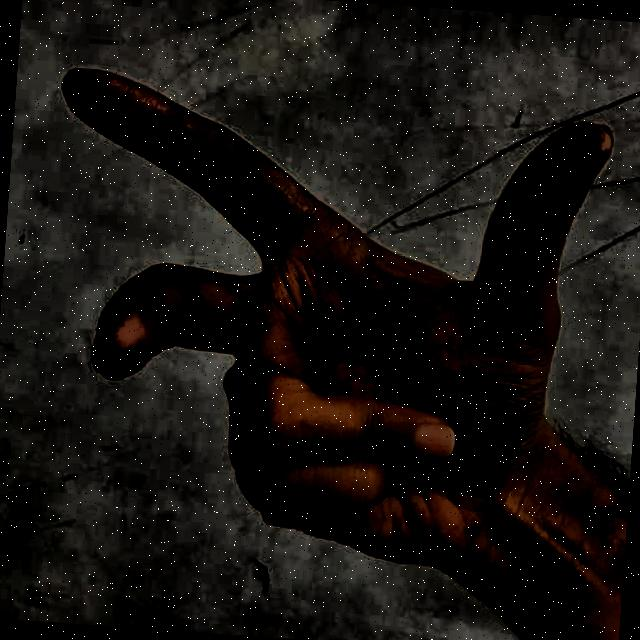Da: (7, 10, 631, 625)
